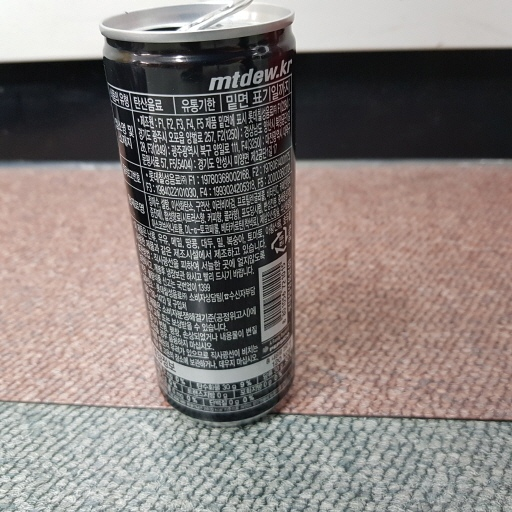Metal_0: (99, 1, 303, 428)
